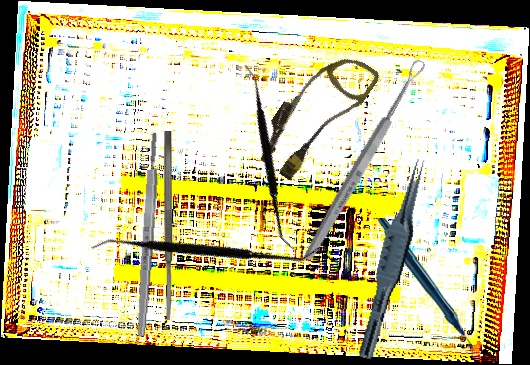Cannula: (249, 37, 382, 191)
Handpiece: (375, 218, 476, 356)
Scalpel Handle: (134, 130, 162, 339)
Spatula Surgical: (89, 149, 321, 347), (178, 63, 361, 251), (163, 131, 173, 320)
Surgical Spoon: (301, 57, 428, 263)
Tissue Forceps: (357, 155, 431, 363)
